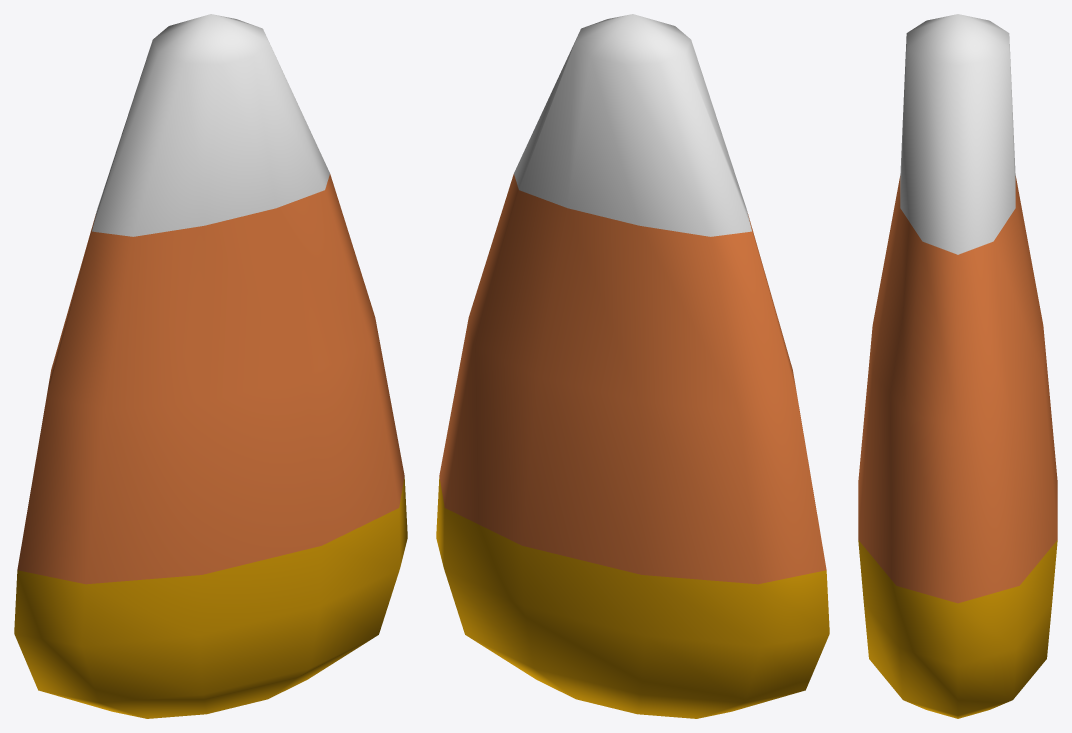
Rendered from candy-corn-plant.glb.
3 renders of one model, left to right at view 1: azimuth 30°, elevation 25°; view 2: azimuth 150°, elevation 25°; view 3: azimuth 270°, elevation 25°, orthographic. The views are drawn at different scales.
Parts seen in each view (by area): view 1: candy-corn; view 2: candy-corn; view 3: candy-corn.
Boxes of the visible parts, left/top/right/bottom form: candy-corn: left=14, top=14, right=407, bottom=718; candy-corn: left=436, top=14, right=829, bottom=718; candy-corn: left=858, top=14, right=1057, bottom=718.
Size of what is drawn, in the model's own units: 0.8886 by 1.47 by 0.3993.
